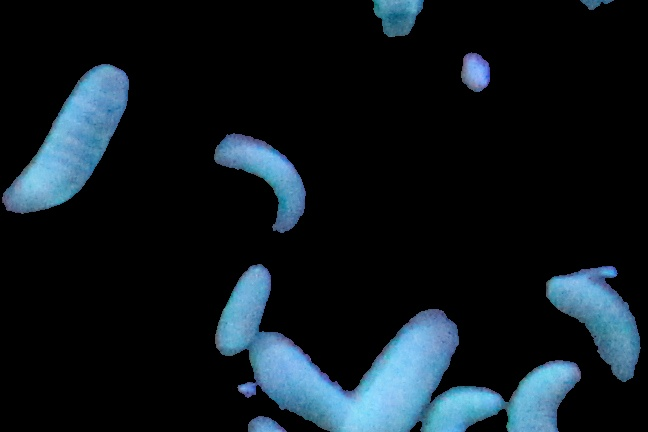larvae: (1, 59, 126, 215), (342, 311, 460, 432), (545, 271, 641, 384), (216, 130, 306, 238), (249, 329, 342, 430), (502, 343, 577, 432), (215, 259, 275, 359), (426, 384, 507, 432)
